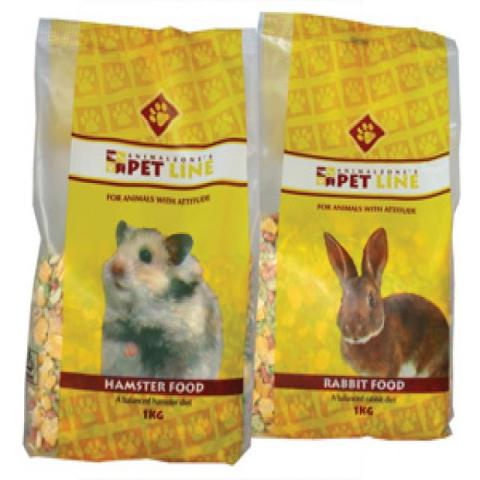small_animal: (24, 12, 461, 462), (98, 219, 224, 380), (322, 226, 450, 380)
